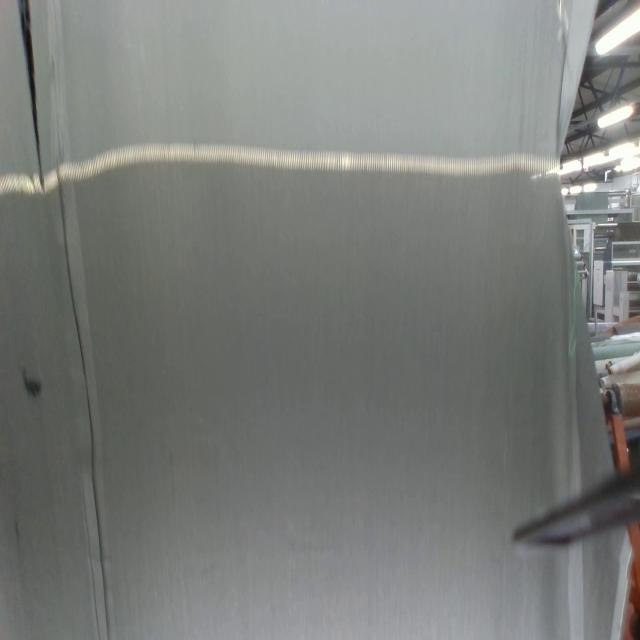crease: (47, 0, 118, 639)
hole: (16, 0, 44, 188), (19, 366, 43, 401), (14, 519, 22, 542)
